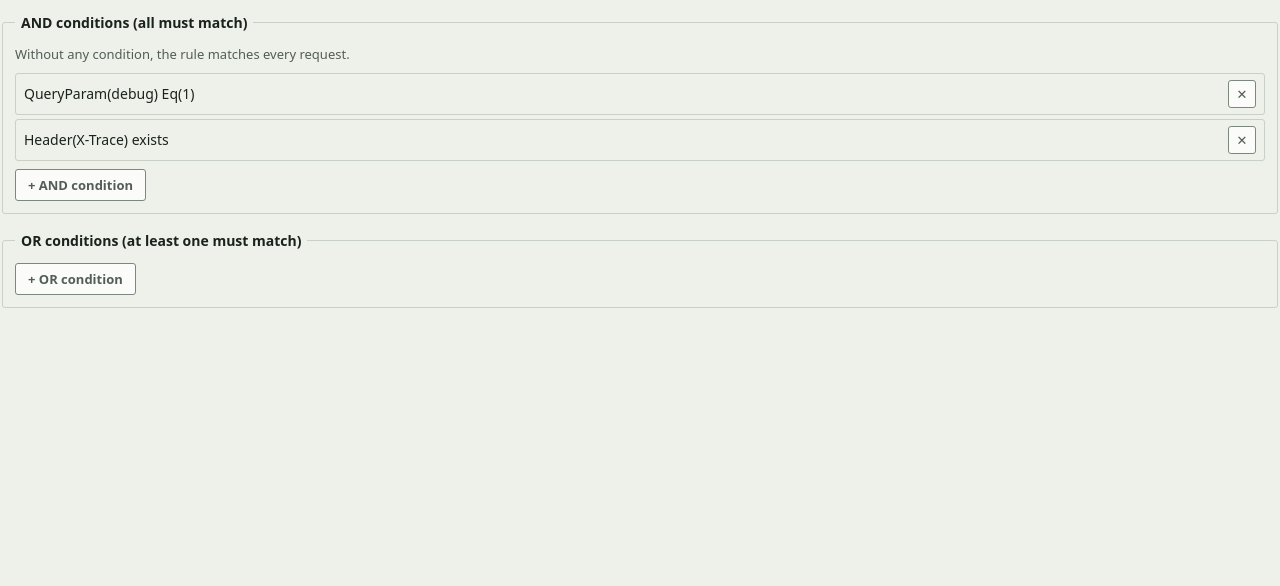
RuleConditionsEditor: in-place edit of an existing condition › opening the add form closes an ongoing edit, so one small form is open at a time
Click the button with test id "rule-form-edit-condition-allof-button-0" at (109, 94), box [18,79,1226,108]
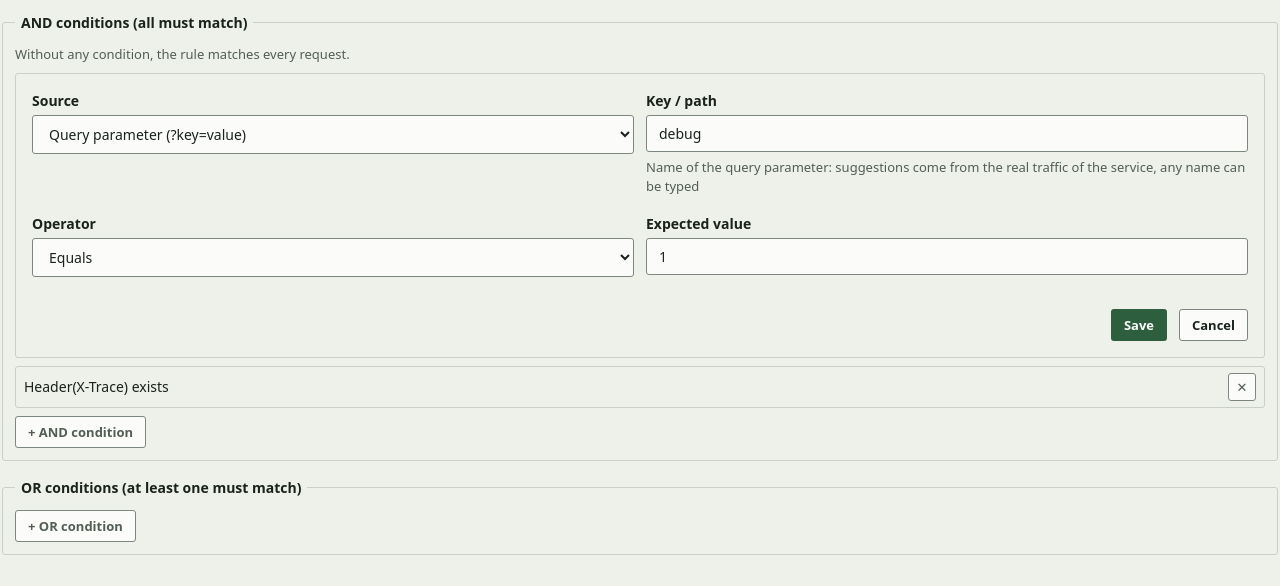
Replace the text in the field labelled "Expected value" with "en-cours-de-frappe" at (947, 256), box [646,238,1248,274]
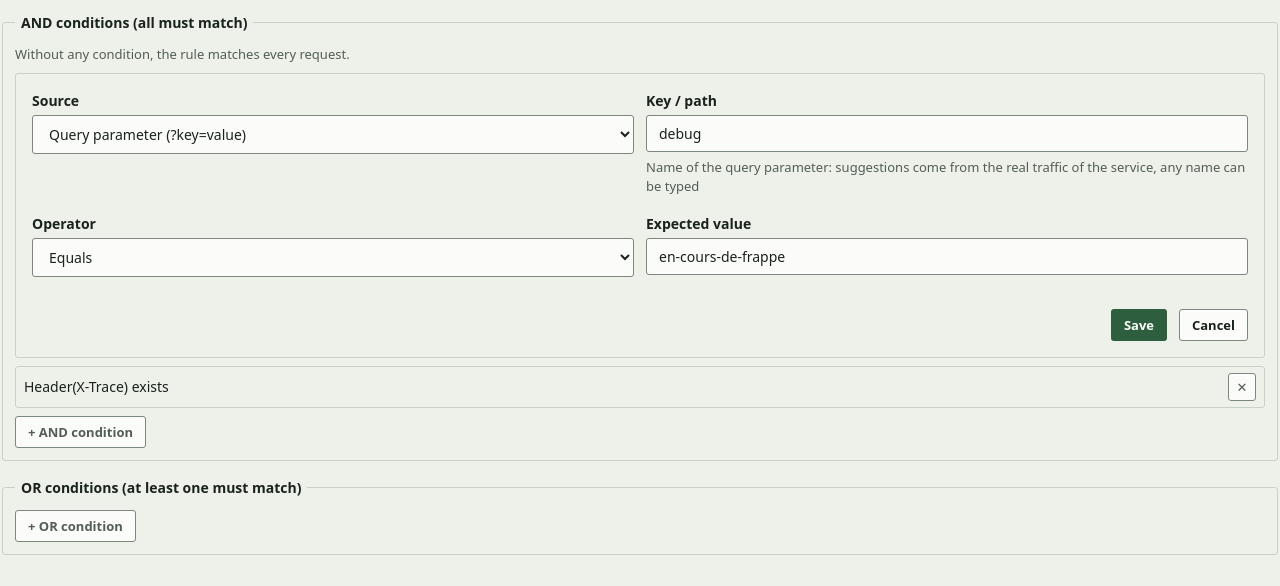
Click the button with test id "rule-form-add-condition-allof-button" at (80, 432), box [15,416,146,448]
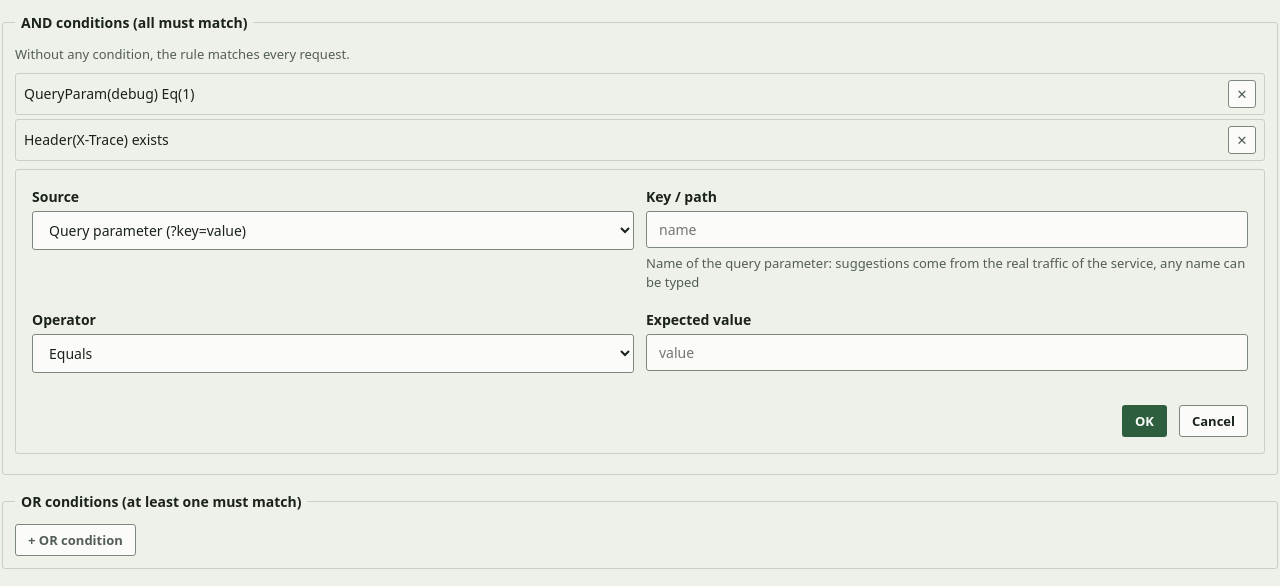
Expected: the button with test id "rule-form-edit-condition-allof-button-0" reads "QueryParam(debug) Eq(1)", [18,79,1226,108]
Expected: the field labelled "Expected value" is empty, [646,334,1248,370]
